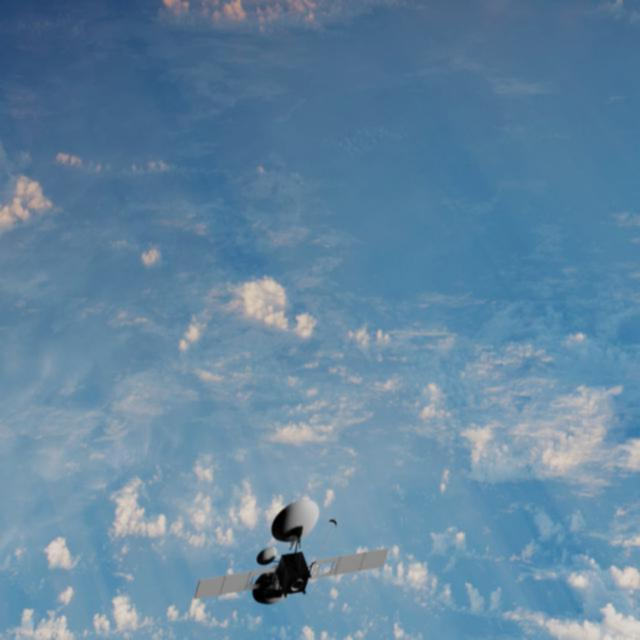satellite: (167, 490, 391, 616)
